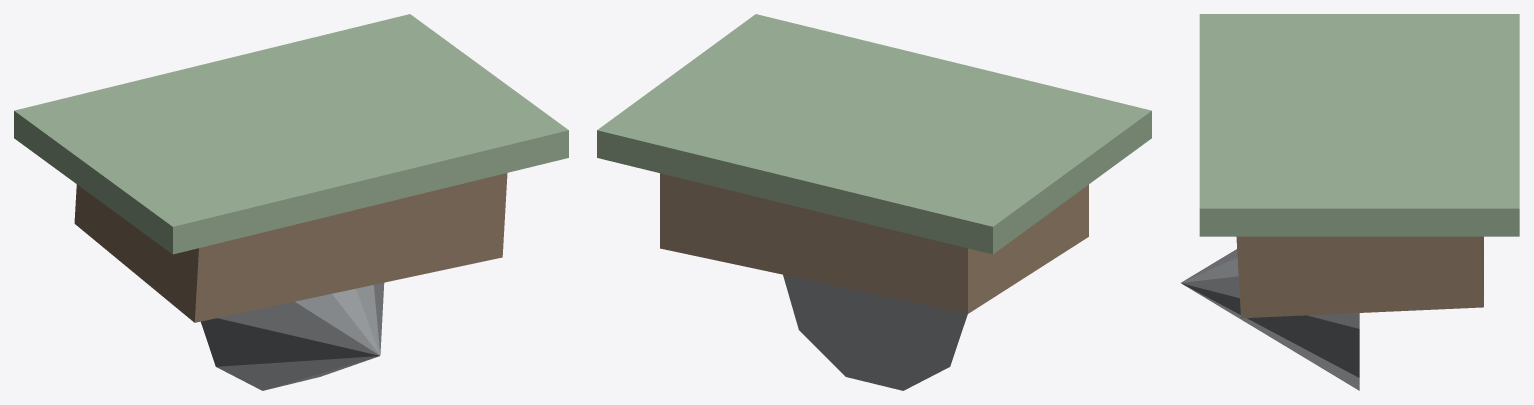
Rendered from floating_island.glb.
3 renders of one model, left to right at view 1: azimuth 30°, elevation 25°; view 2: azimuth 150°, elevation 25°; view 3: azimuth 270°, elevation 25°, orthographic.
Visible parts, largest first — view 1: world; view 2: world; view 3: world.
Part boxes in pixels (left/top/right/bottom): world: left=14, top=14, right=568, bottom=390; world: left=597, top=14, right=1151, bottom=390; world: left=1181, top=14, right=1519, bottom=390.
Size of the model in its own units: 3.6 by 2.29 by 2.65.
